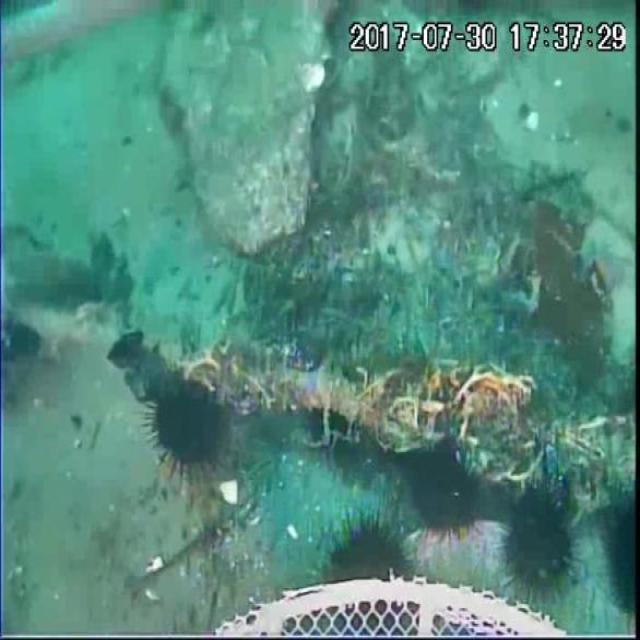echinus: (500, 489, 579, 600), (150, 379, 227, 476), (406, 451, 482, 546), (326, 509, 417, 584), (603, 496, 640, 620)
